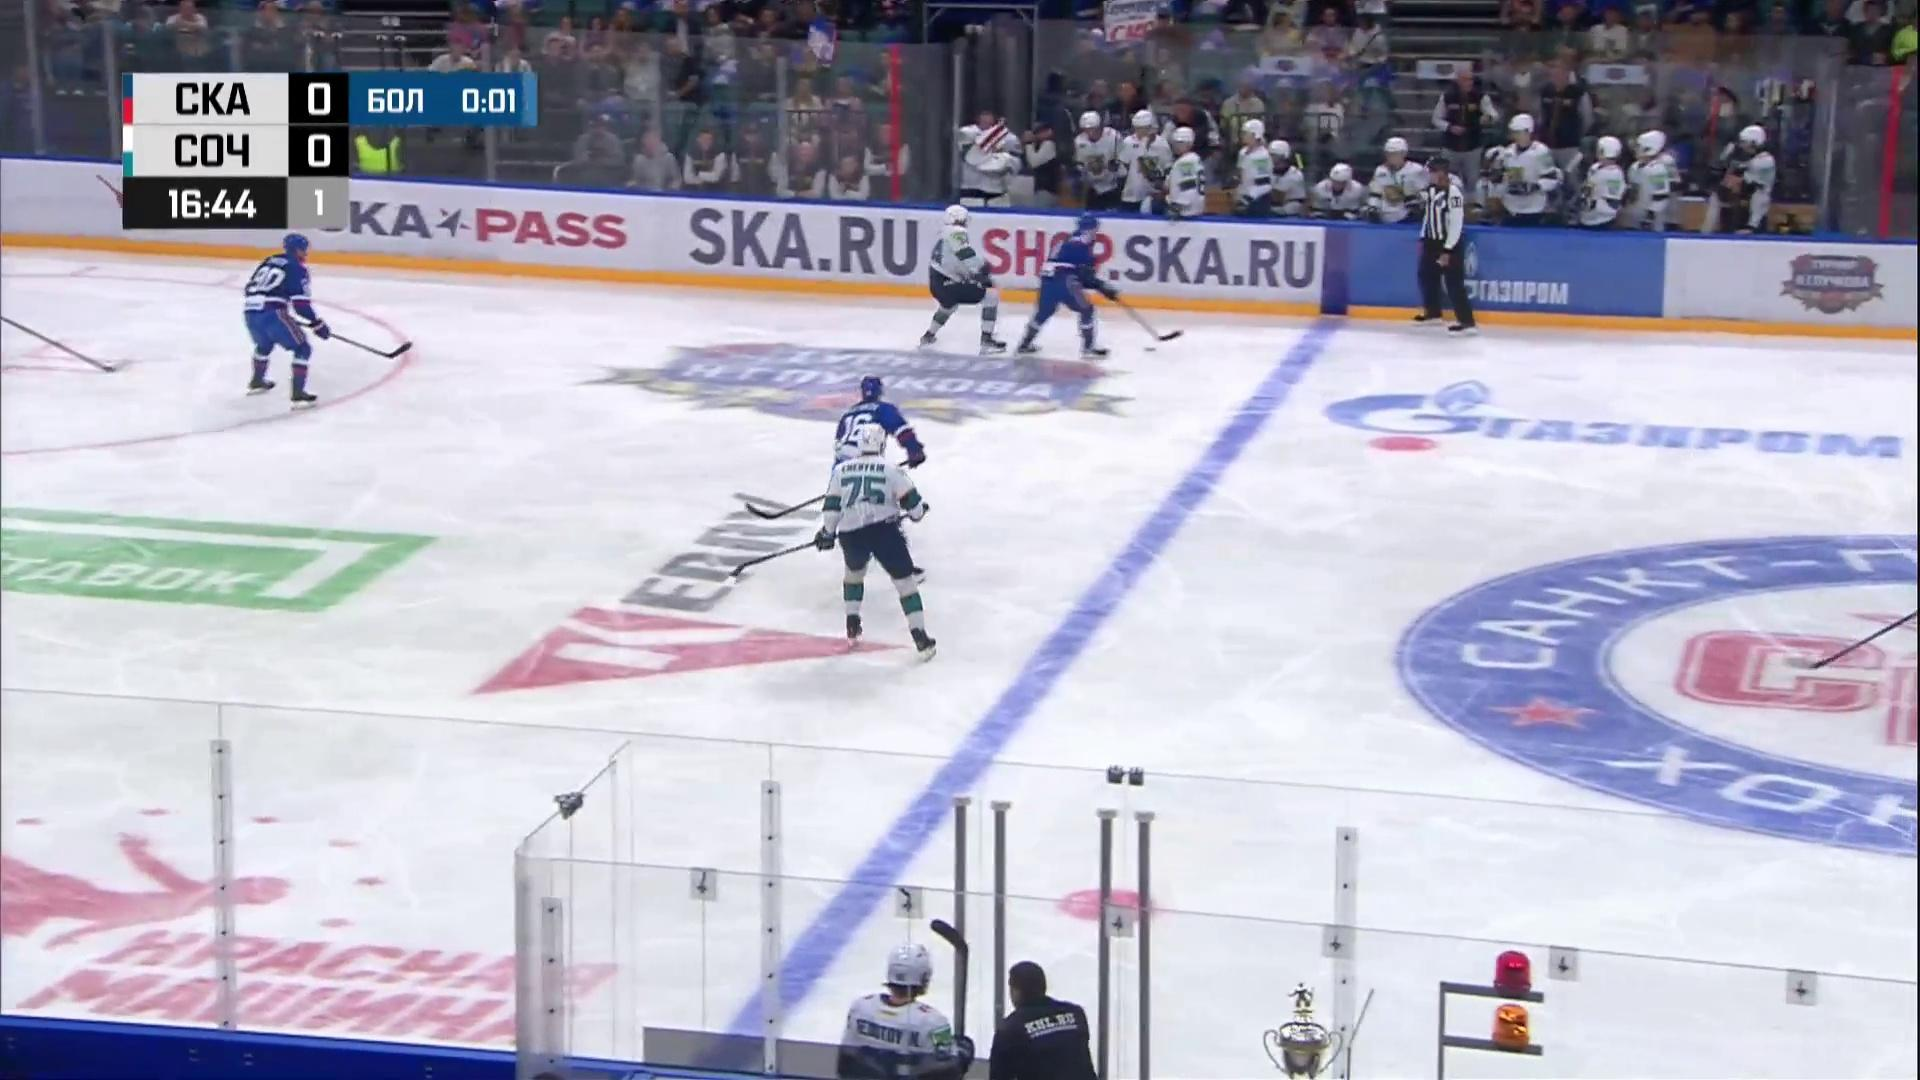ball: (1143, 347, 1156, 352)
